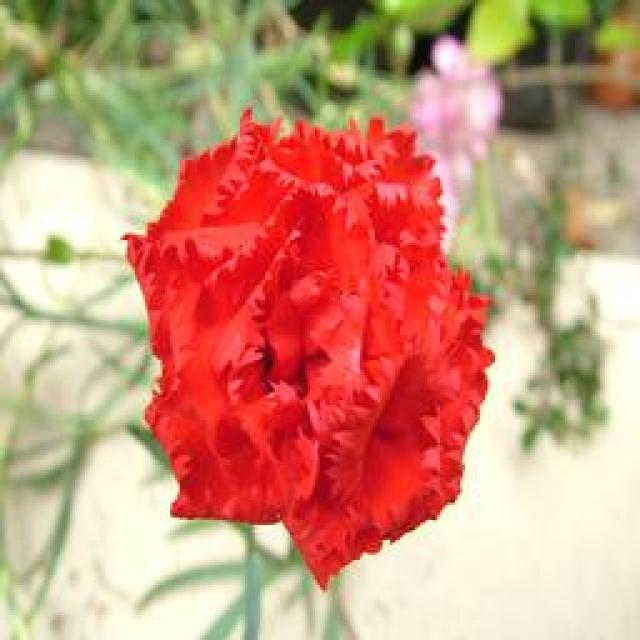carnation: (131, 96, 514, 559)
